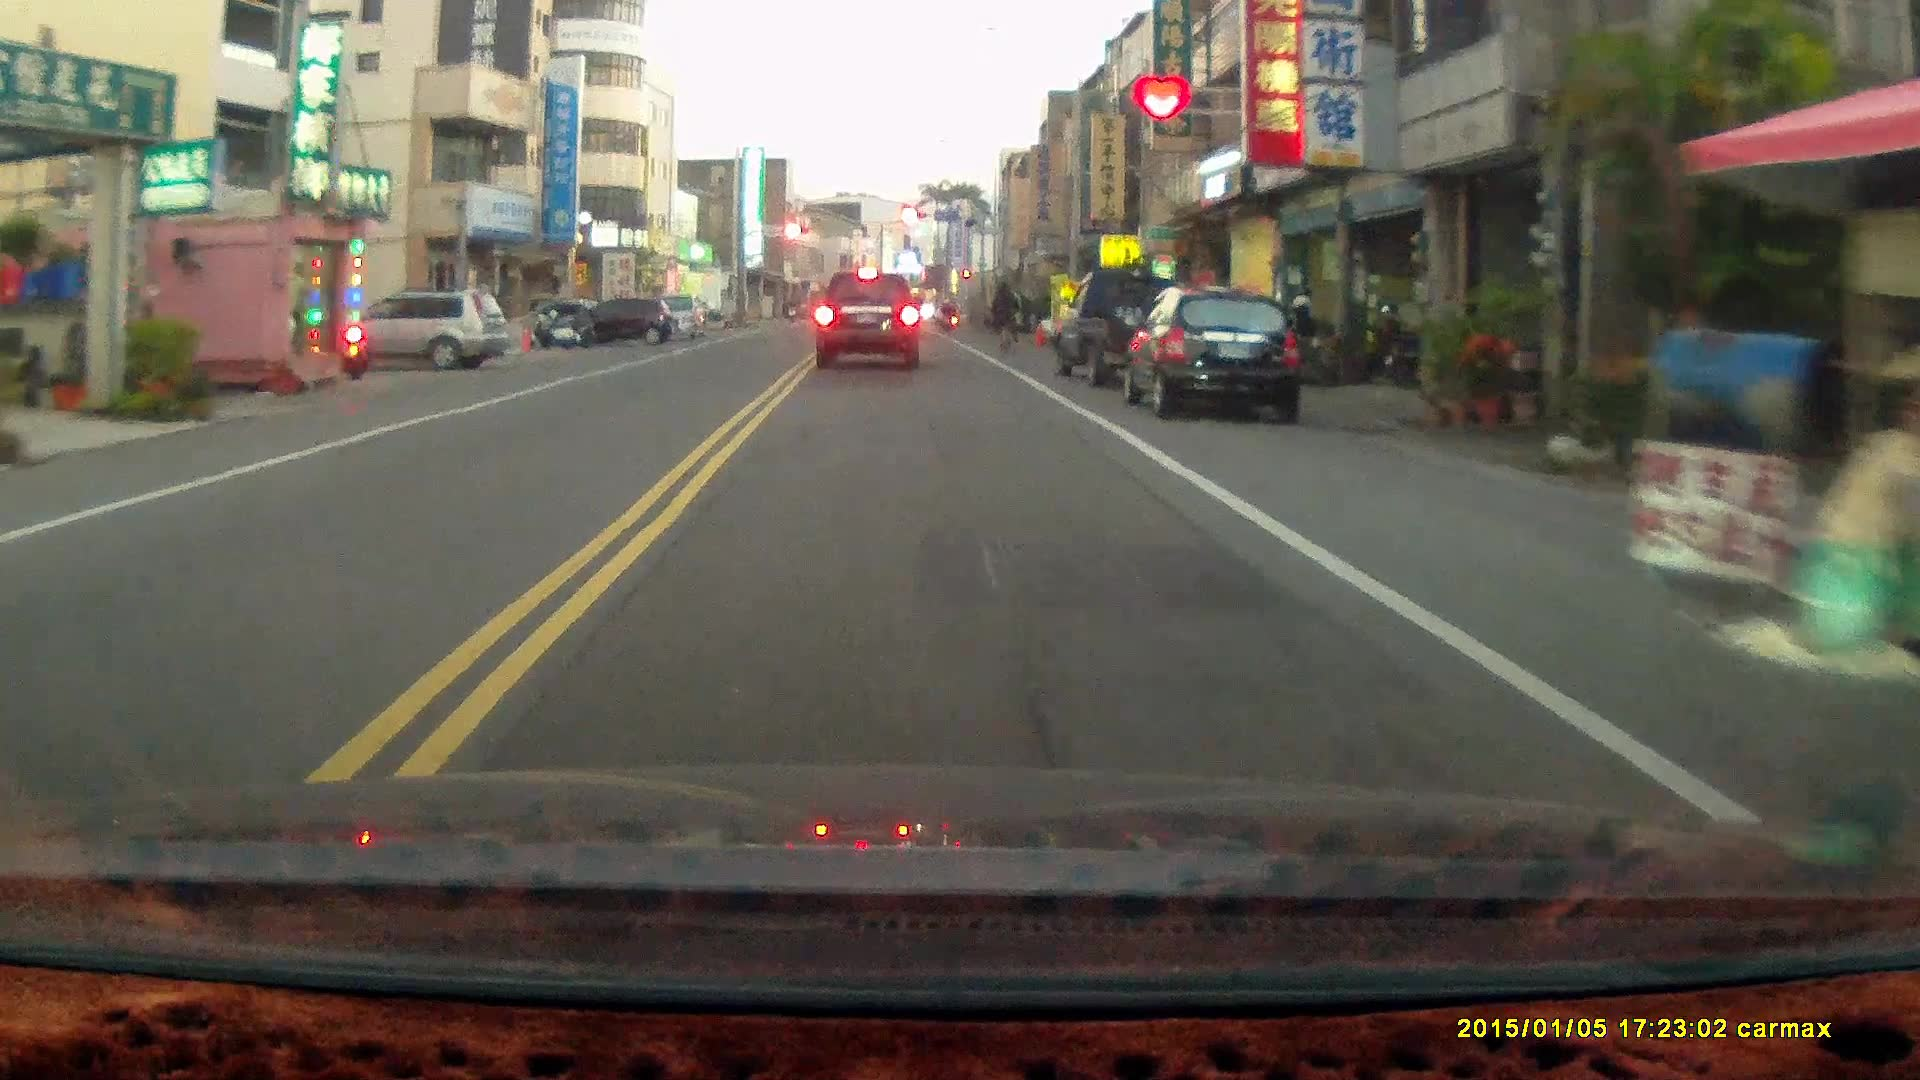rider: (989, 278, 1021, 355)
vehicle: (1137, 282, 1314, 416), (1053, 264, 1219, 387), (312, 292, 510, 373), (815, 267, 924, 372), (553, 296, 675, 345)
